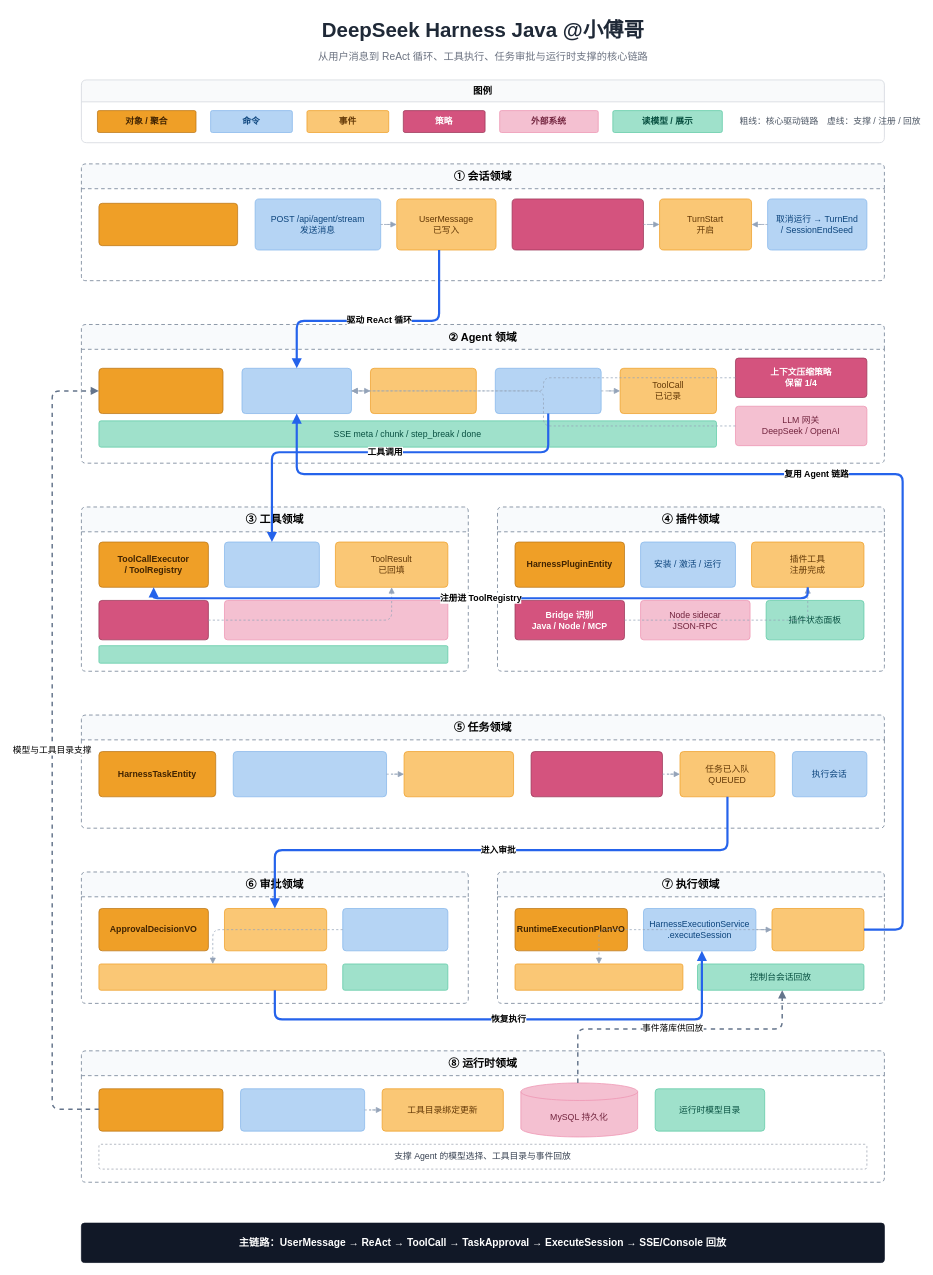
This 933x1275 diagram has some shape labels left out. Here are the shapes that lost their labels. From the top down, the centre of each, then its label:
At pixel 168 224: "HarnessSessionAggregate".
At pixel 577 224: "意图识别策略 CHAT / CODE / TASK".
At pixel 160 391: "ReactLoopAgent".
At pixel 296 391: "LLM 流式生成".
At pixel 423 391: "AssistantChunk 追加".
At pixel 548 391: "发起工具调用".
At pixel 271 564: "执行工具".
At pixel 153 620: "超时与重复调用守卫".
At pixel 336 620: "本地 Shell / MCP Server / 文件系统 / Web".
At pixel 273 654: "工具卡片：running / success".
At pixel 310 774: "POST /api/harness/tasks/submit".
At pixel 458 774: "任务已创建 CREATED".
At pixel 596 774: "权限矩阵 + 审批决策".
At pixel 275 929: "待审批 PENDING_APPROVAL".
At pixel 395 929: "POST /approvals/{id}/approve".
At pixel 817 929: "RUNNING".
At pixel 212 976: "审批通过 → 恢复执行".
At pixel 395 976: "待审批列表".
At pixel 598 976: "COMPLETED / FAILED".
At pixel 160 1109: "ModelSetting / Profile".
At pixel 302 1109: "模型发现 / 保存设置".
